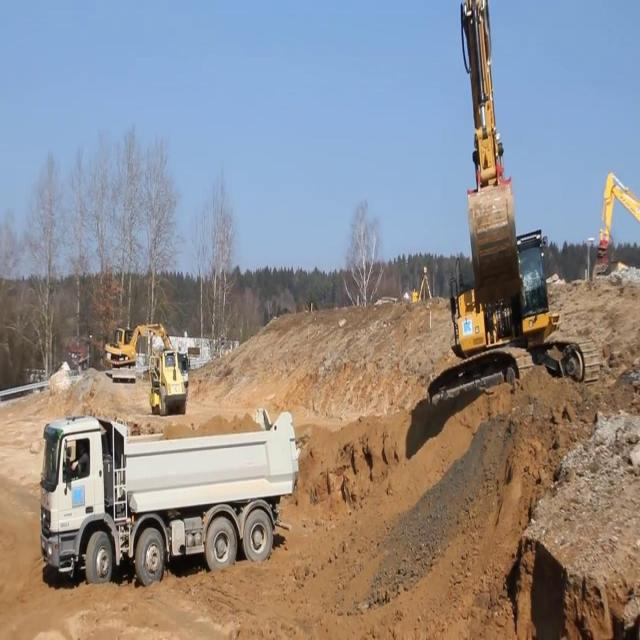Dump Truck: (40, 406, 300, 588), (176, 351, 190, 394)
Excavator: (426, 1, 600, 414), (594, 170, 640, 276), (104, 322, 172, 384)
Roller: (148, 350, 186, 415)
